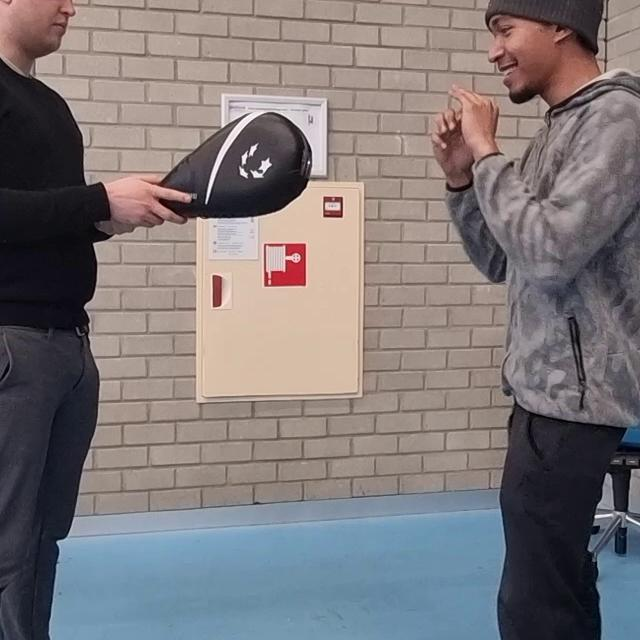paddle: (140, 109, 313, 218)
